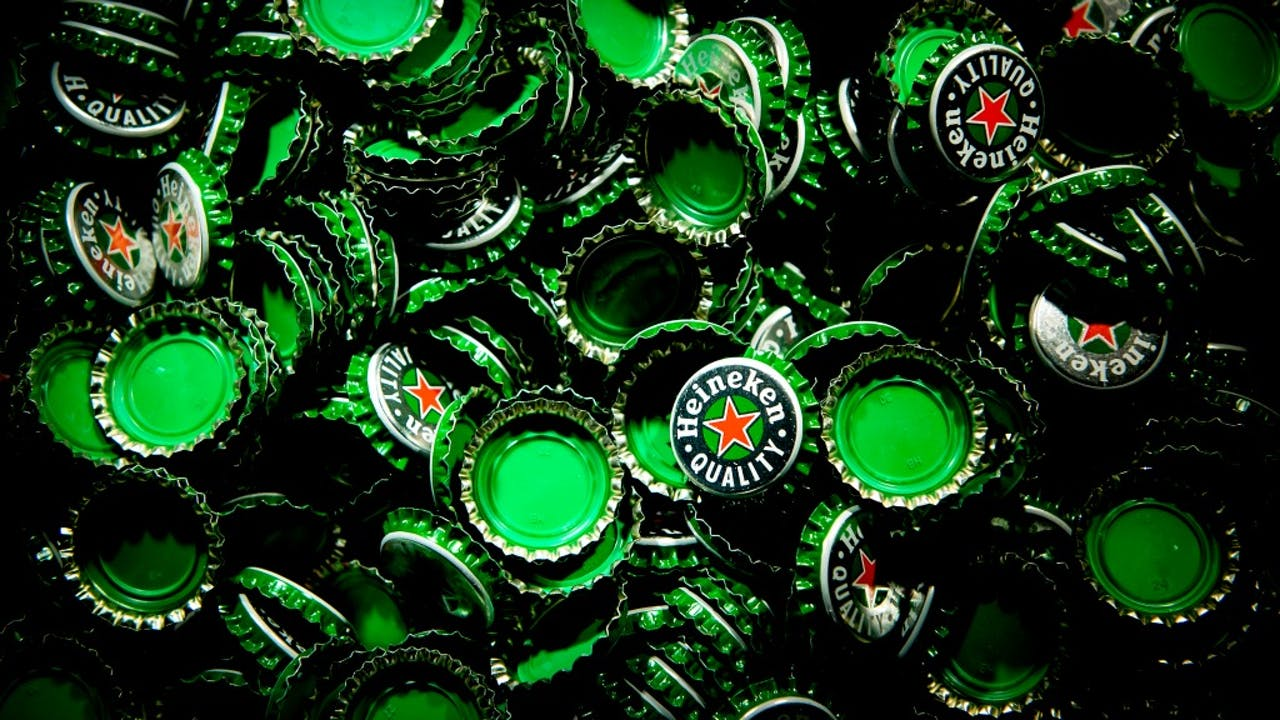heineken: (1022, 266, 1181, 397), (804, 501, 926, 656), (670, 358, 802, 498), (922, 37, 1048, 182), (54, 160, 160, 322), (364, 334, 473, 469), (145, 163, 212, 299)
